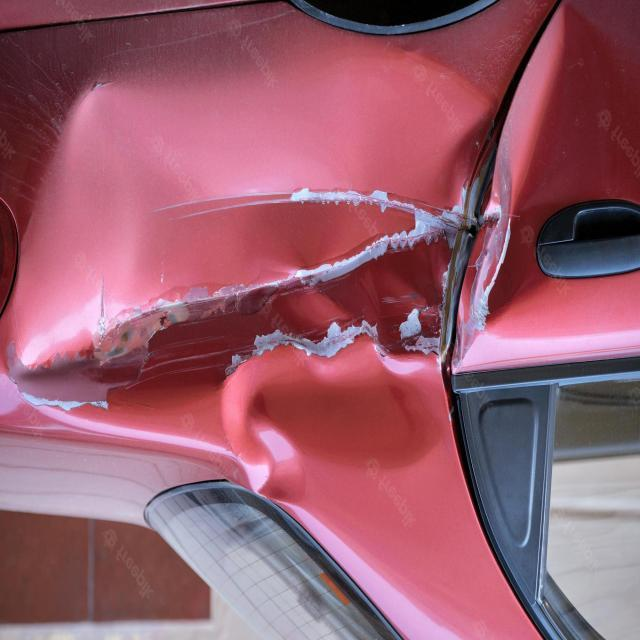dent: (2, 109, 530, 554)
